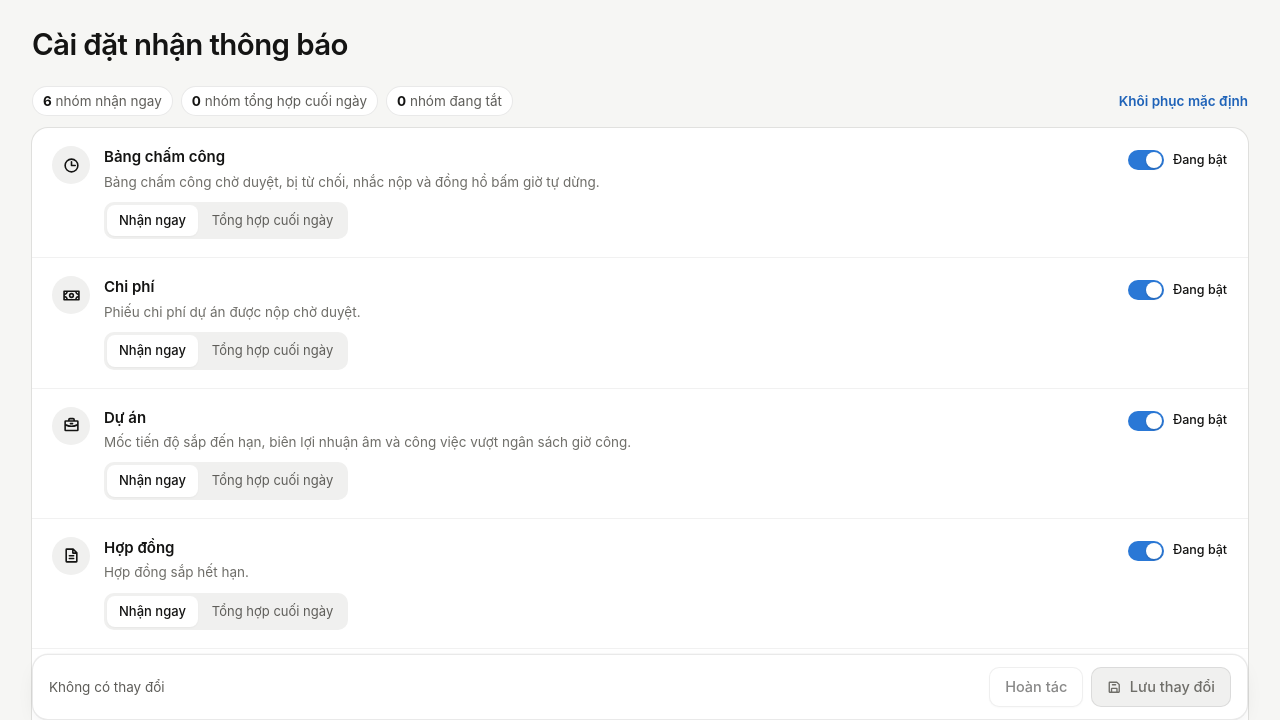
Test case: NotificationPreferencePage (NCL-14-CN-002) › "Hoàn tác" trả về cấu hình đã lưu, không gọi API
Click the switch with test id "pref-switch-EXPENSE": (1178, 290) [1128,280,1228,300]
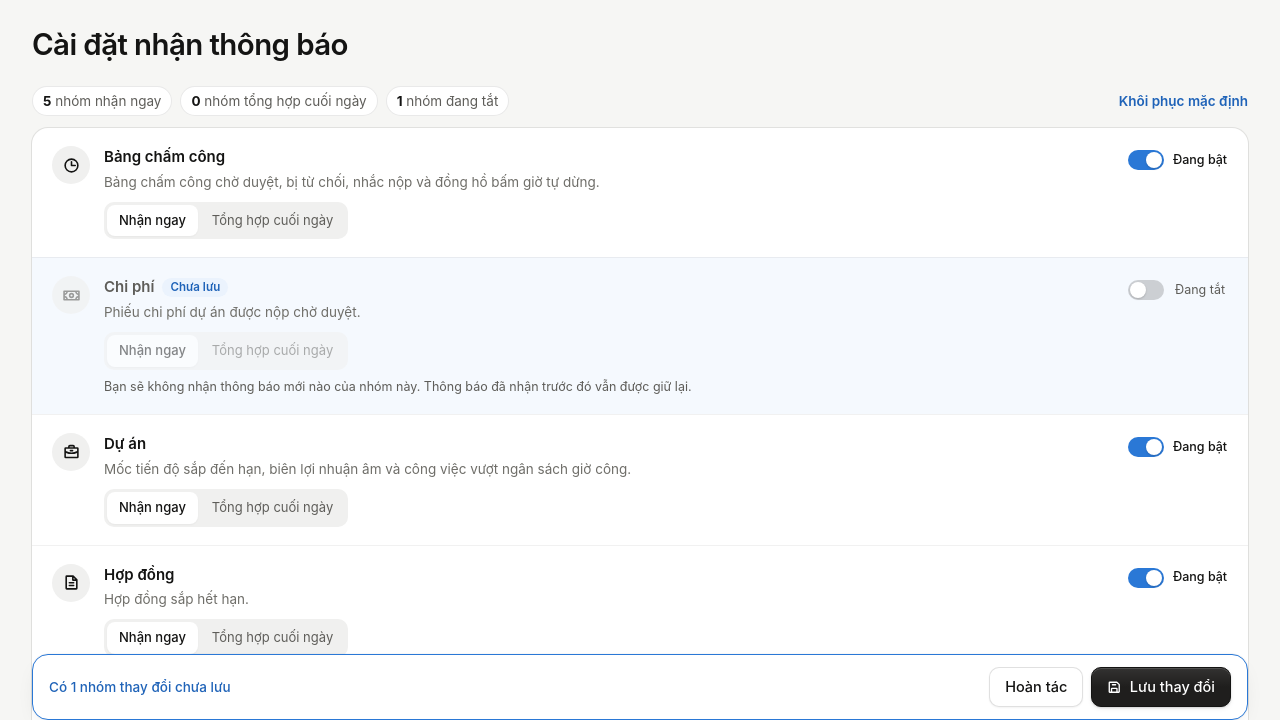
Result: the text with test id "pref-status" reads "Có 1 nhóm thay đổi chưa lưu" at [49,679,231,695]
Click the button with test id "btn-pref-reset": (1036, 687) [989,667,1083,707]
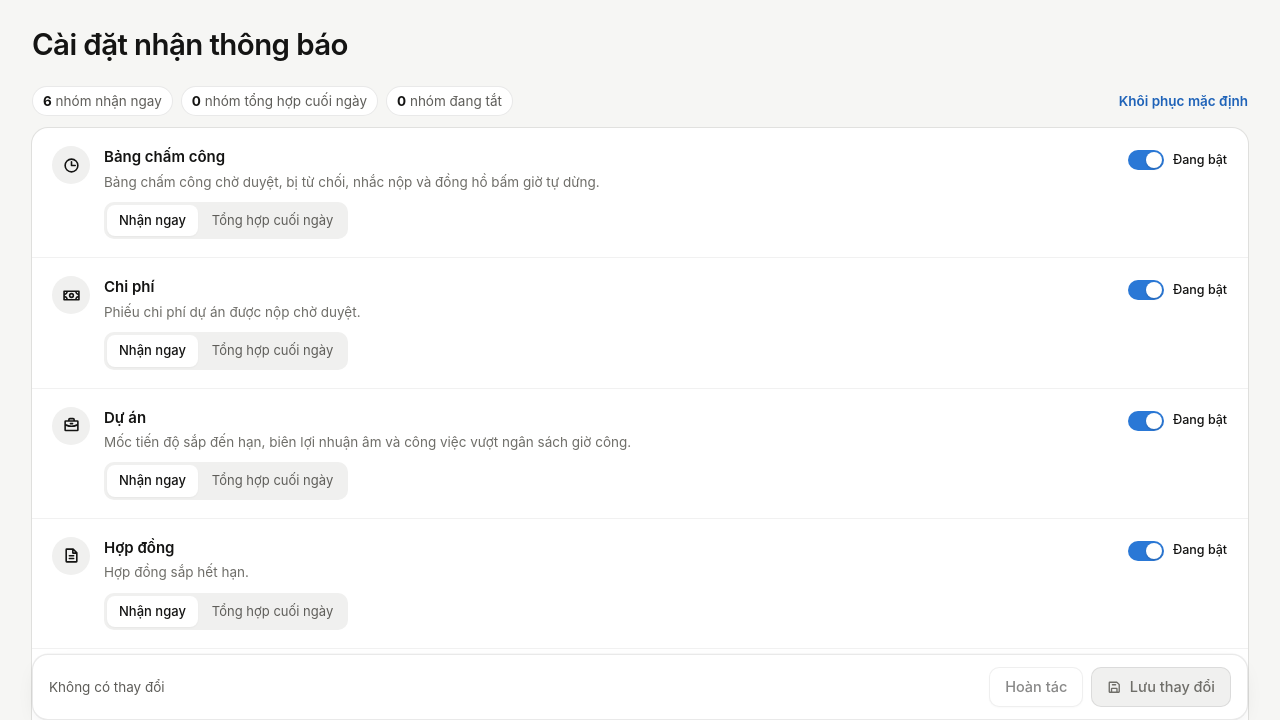
Result: the text with test id "pref-status" reads "Không có thay đổi" at [49,679,165,695]
